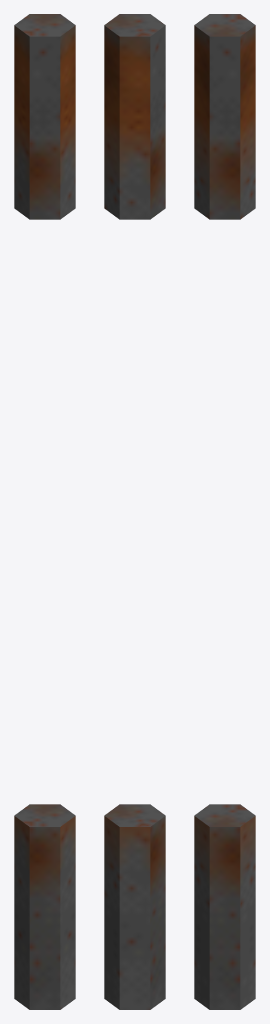
The model's file is Hinge.001.fbx.
3 views of the same model, side by side, from view 1: azimuth 90°, elevation 25°; view 2: azimuth 150°, elevation 25°; view 3: azimuth 270°, elevation 25° (orthographic).
Parts seen in each view (by area): view 1: Hinge.001; view 2: Hinge.001; view 3: Hinge.001.
Boxes of the visible parts, x1,y1,x2,y2 form: Hinge.001: [14, 14, 75, 1009]; Hinge.001: [104, 14, 165, 1009]; Hinge.001: [194, 14, 255, 1009].
Bounding box in the file's own units: 0.0705 × 1.42 × 0.0814.
1 material, 1 textured.
